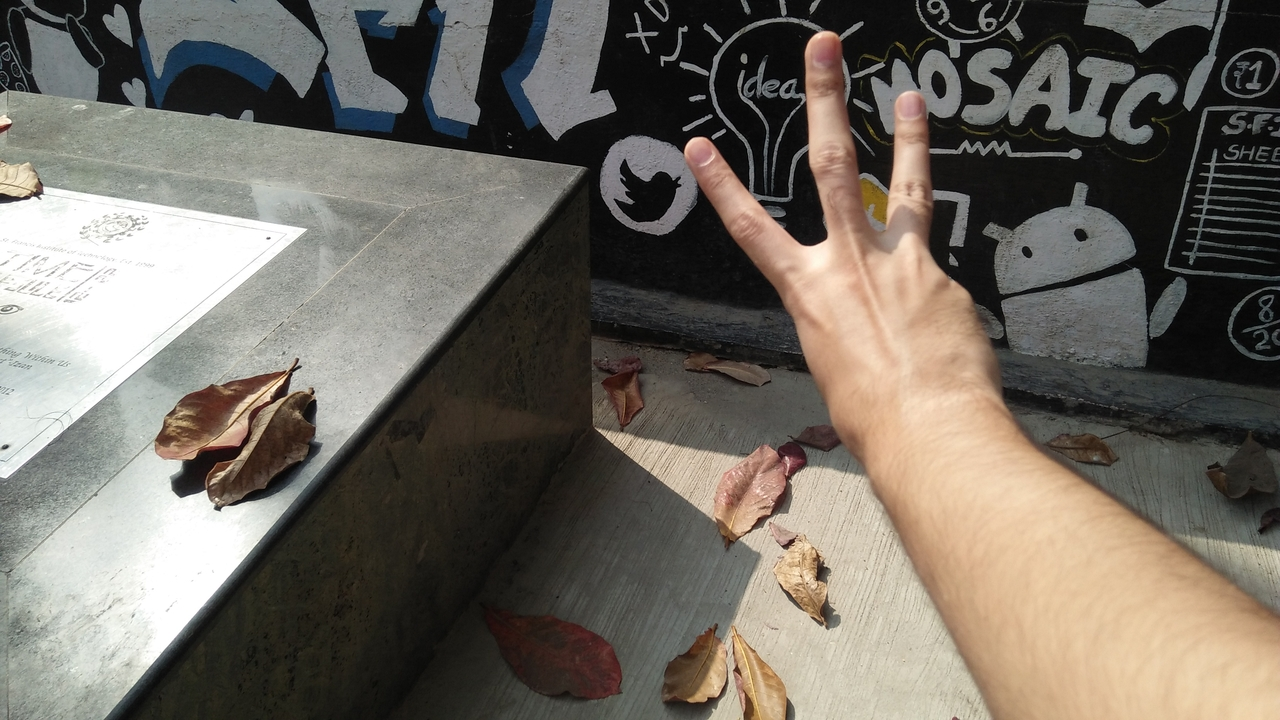fingertip: (676, 126, 738, 180), (888, 80, 944, 130), (804, 28, 846, 72)
